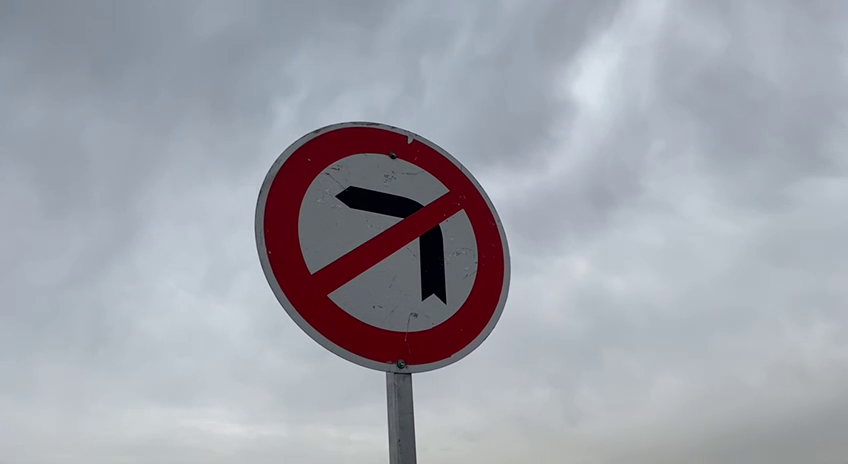noTurnLeft: (243, 116, 520, 381)
